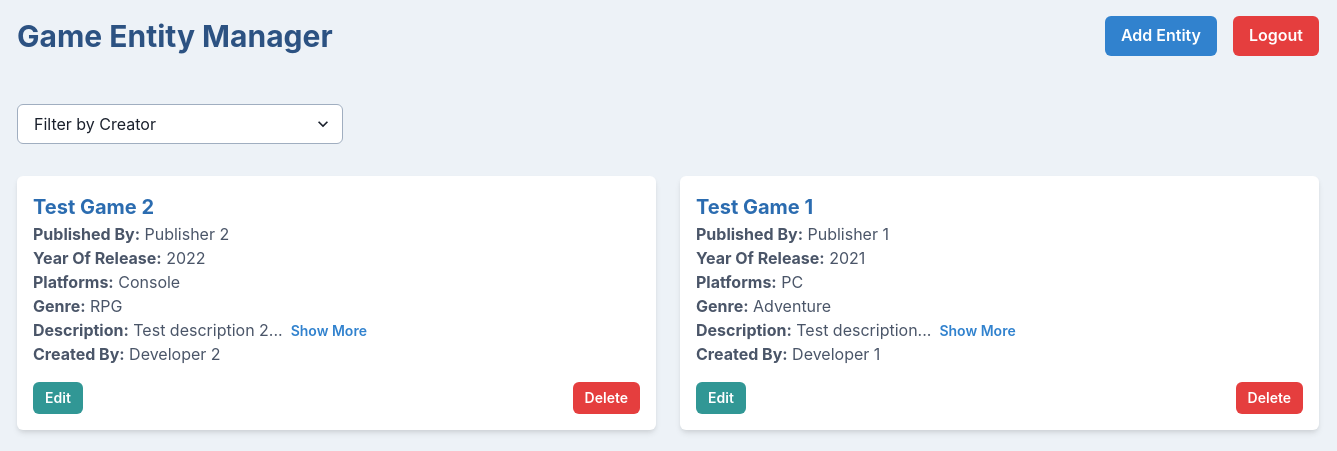
Test: Entity Component › filters data by creator
Expected: the text "Test Game 1" is shown, 696,195 -> 813,219
Expected: the text "Test Game 2" is shown, 33,195 -> 154,219
// Apply filter
Select "Developer 1" in the dropdown named "filter by creator" at (180, 124), box 17,104 -> 342,144
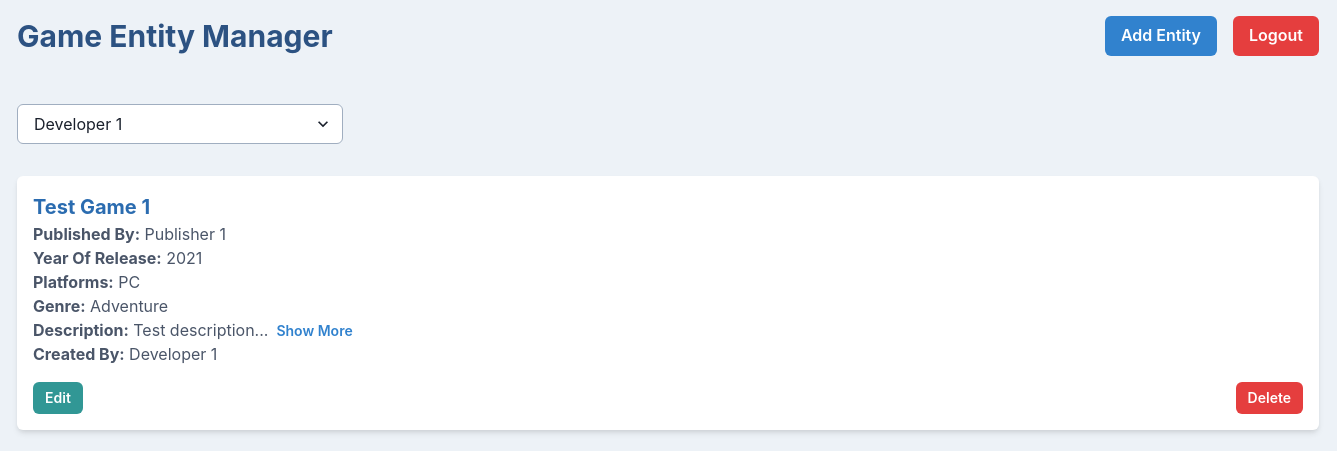
Result: the text "Test Game 1" is shown at 33,195 -> 150,219
Result: the text "Test Game 2" is gone
